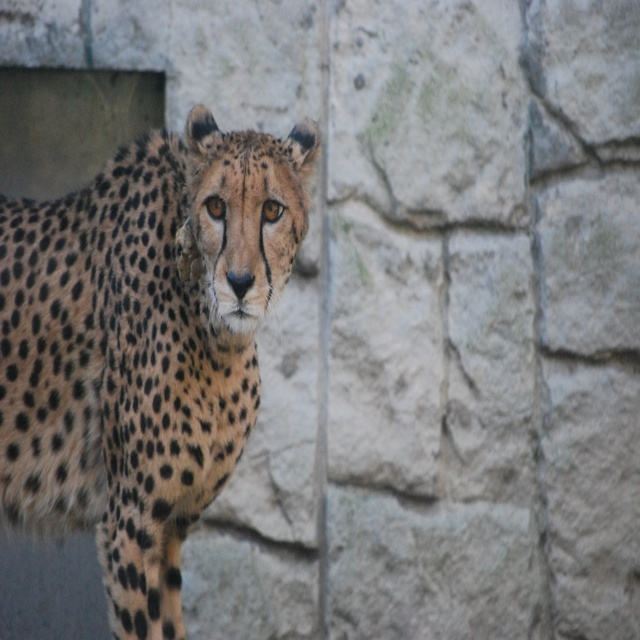Cheetah: (0, 105, 321, 639)
